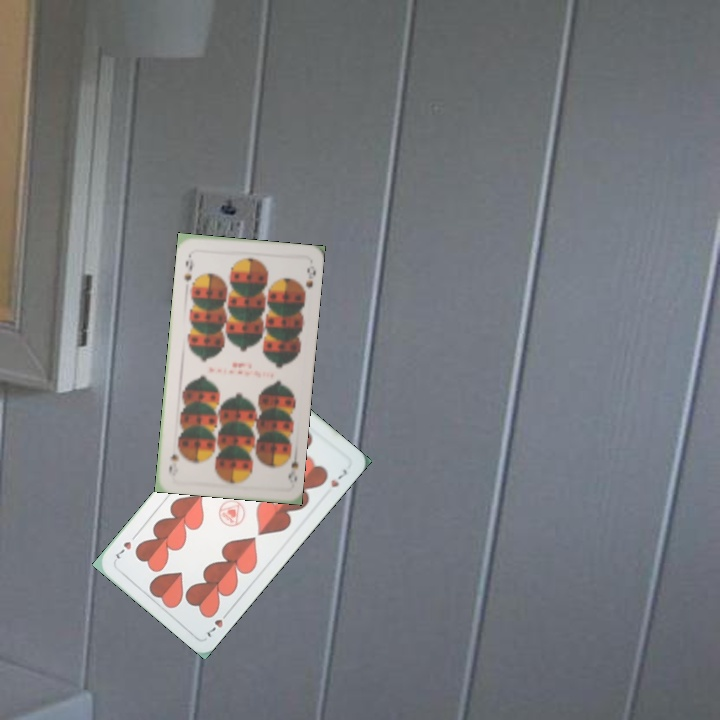H7: (203, 606, 232, 640)
S9: (284, 447, 301, 487), (180, 248, 195, 285)
